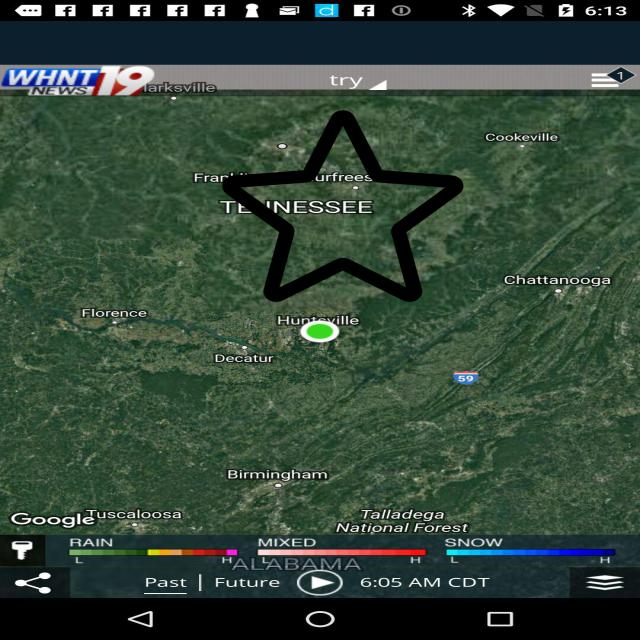forced continuity: (222, 106, 463, 306)
